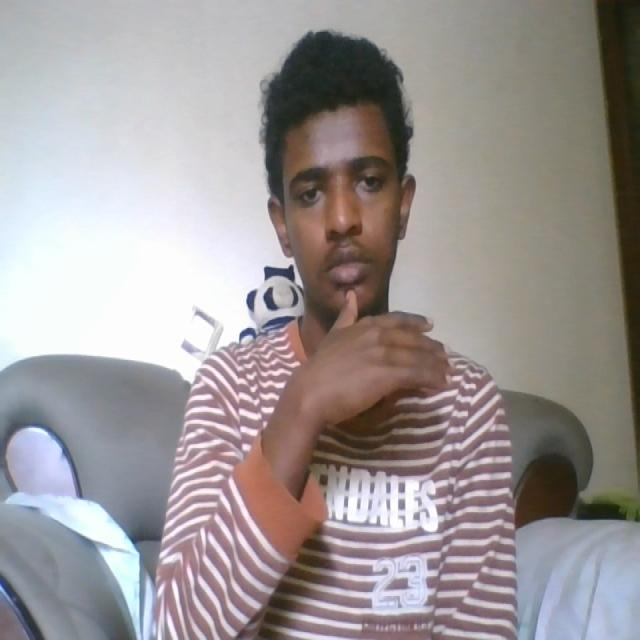enat: (290, 270, 460, 426)
